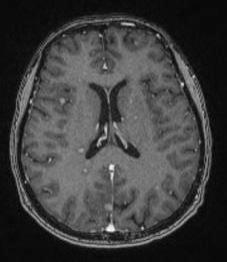Normal_Brain: (2, 6, 227, 262)
